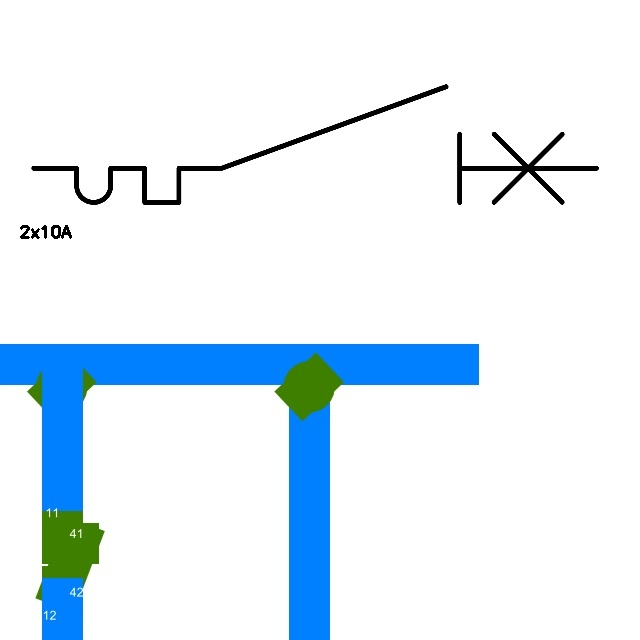interruptor_termomagnetico: (19, 72, 611, 217)
